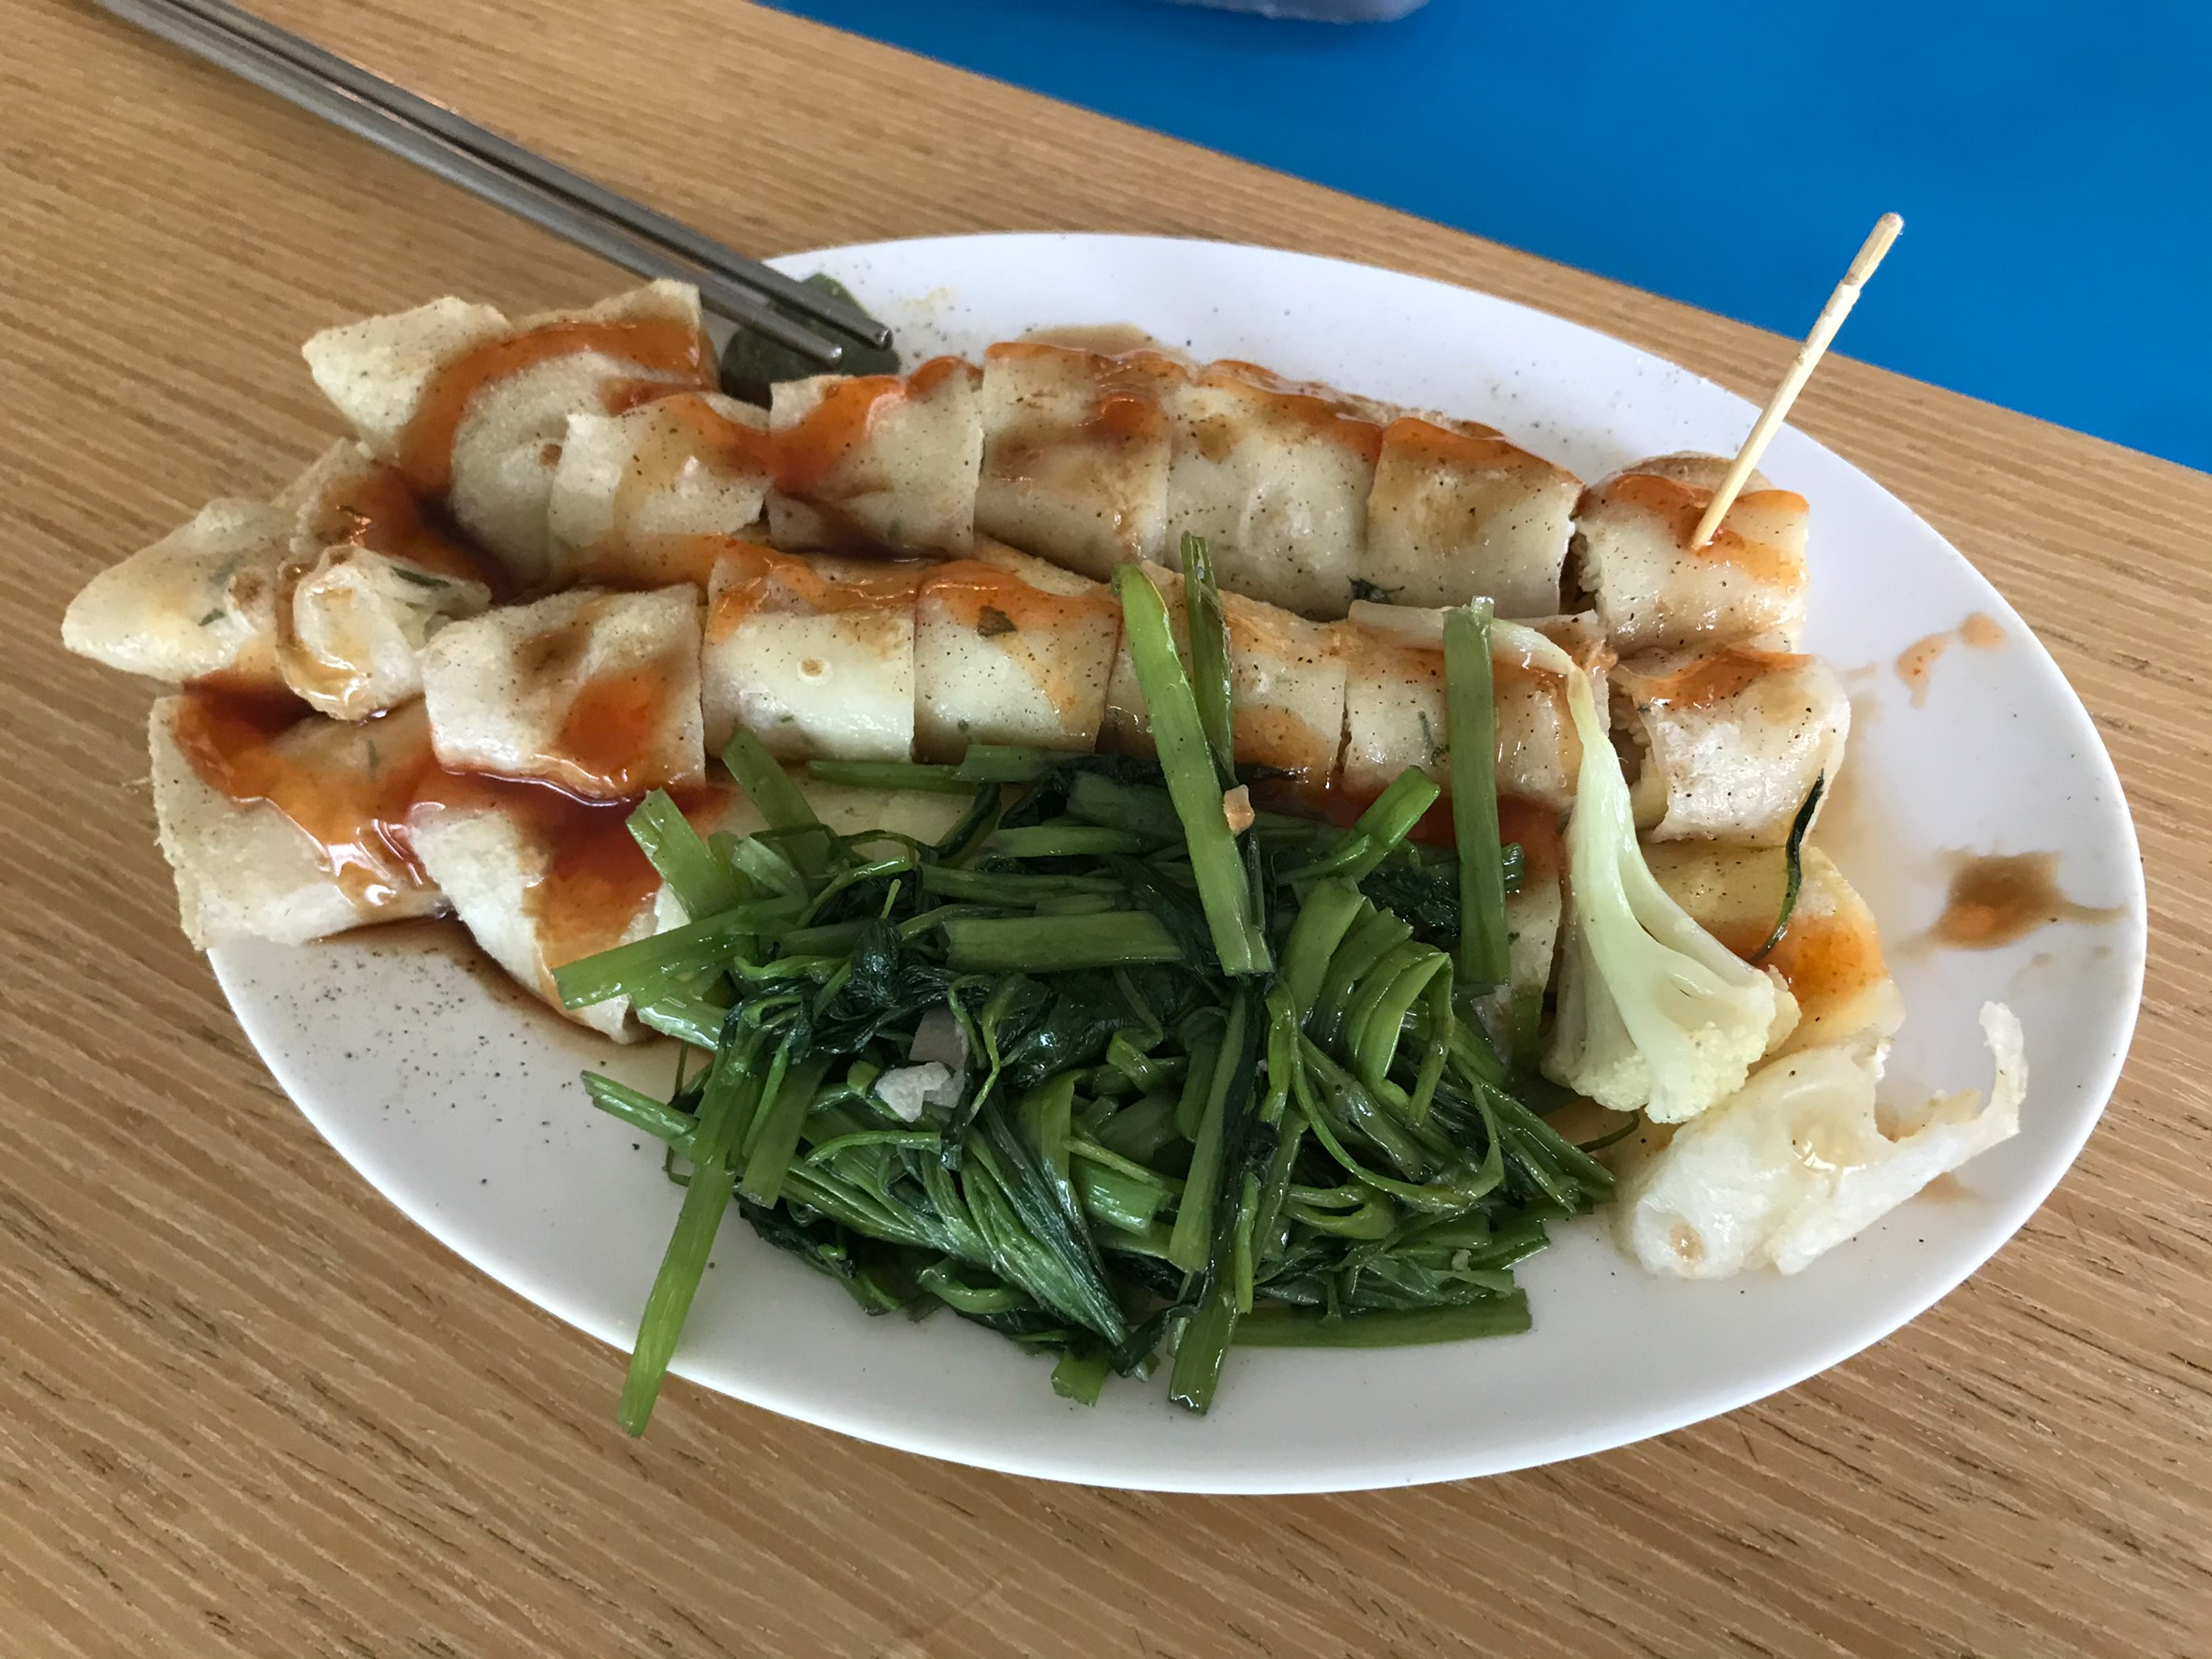water_spinach: (723, 765, 1602, 1417)
